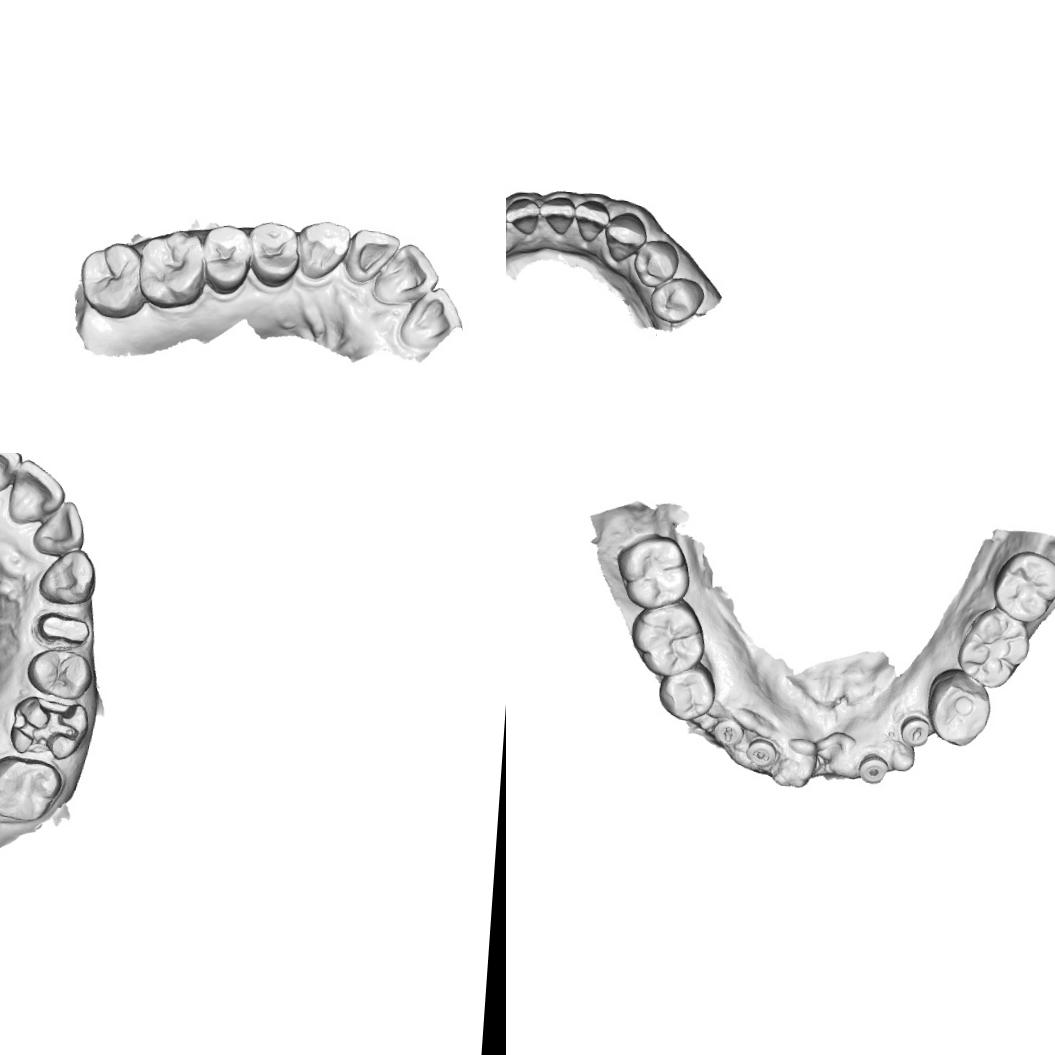canine: (294, 218, 352, 282), (36, 547, 98, 606), (601, 206, 647, 264)
crown: (32, 608, 91, 650)
implant: (858, 752, 888, 784)
implant_minus: (895, 716, 930, 747), (742, 737, 776, 768), (712, 713, 742, 746)
incisor: (370, 239, 443, 309), (396, 282, 463, 352), (6, 458, 68, 526), (342, 225, 402, 290), (28, 498, 86, 558), (572, 196, 615, 246), (534, 192, 576, 238), (506, 190, 543, 238), (0, 453, 24, 502)
inlay: (7, 694, 88, 762)
molar: (960, 607, 1039, 688), (135, 226, 209, 310), (76, 238, 148, 321), (630, 601, 704, 671), (0, 751, 65, 825), (616, 538, 686, 606), (994, 553, 1055, 622)
premolar: (927, 671, 990, 747), (244, 218, 302, 290), (200, 222, 254, 296), (24, 646, 95, 700), (656, 660, 714, 722), (647, 273, 705, 326), (630, 236, 681, 291)
